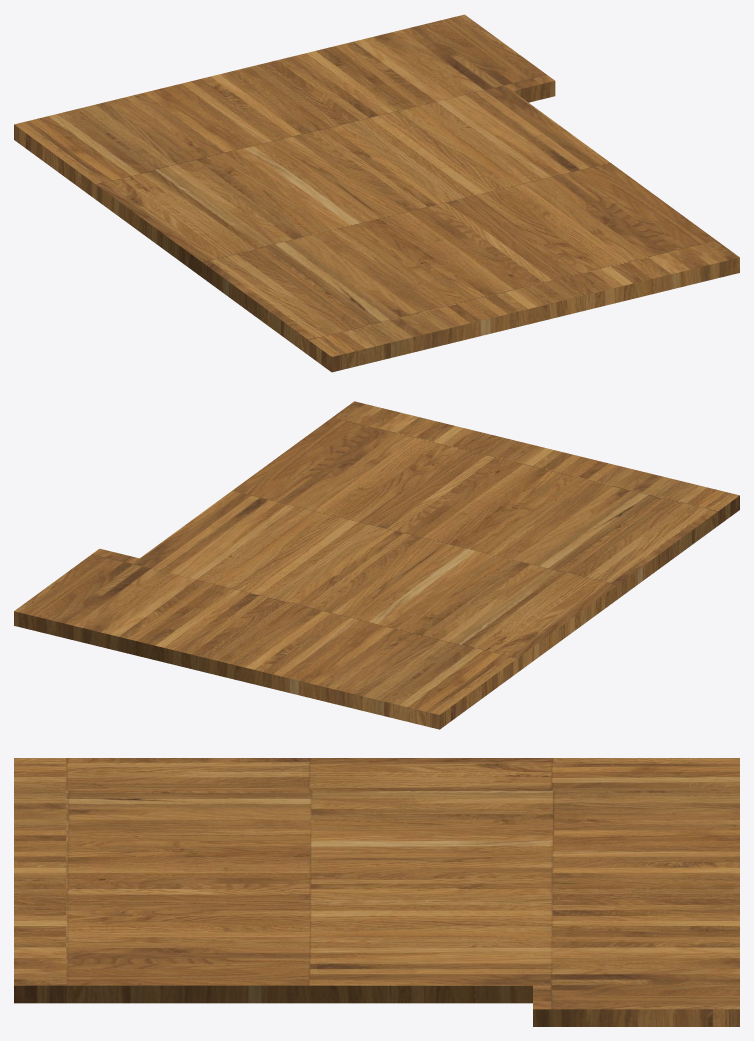
File: boden.glb
3 views of the same model, one above another, from view 1: azimuth 30°, elevation 25°; view 2: azimuth 150°, elevation 25°; view 3: azimuth 270°, elevation 25° (orthographic). The views are drawn at different scales.
Parts seen in each view (by area): view 1: Boden.003; view 2: Boden.003; view 3: Boden.003.
Part boxes in pixels (x1=…): Boden.003: x1=14, y1=14, x2=739, y2=372; Boden.003: x1=14, y1=401, x2=739, y2=729; Boden.003: x1=14, y1=758, x2=739, y2=1026.
Size of the model in its own units: 9.19 by 0.3 by 11.22.
Materials: 1 (1 with a texture image).
